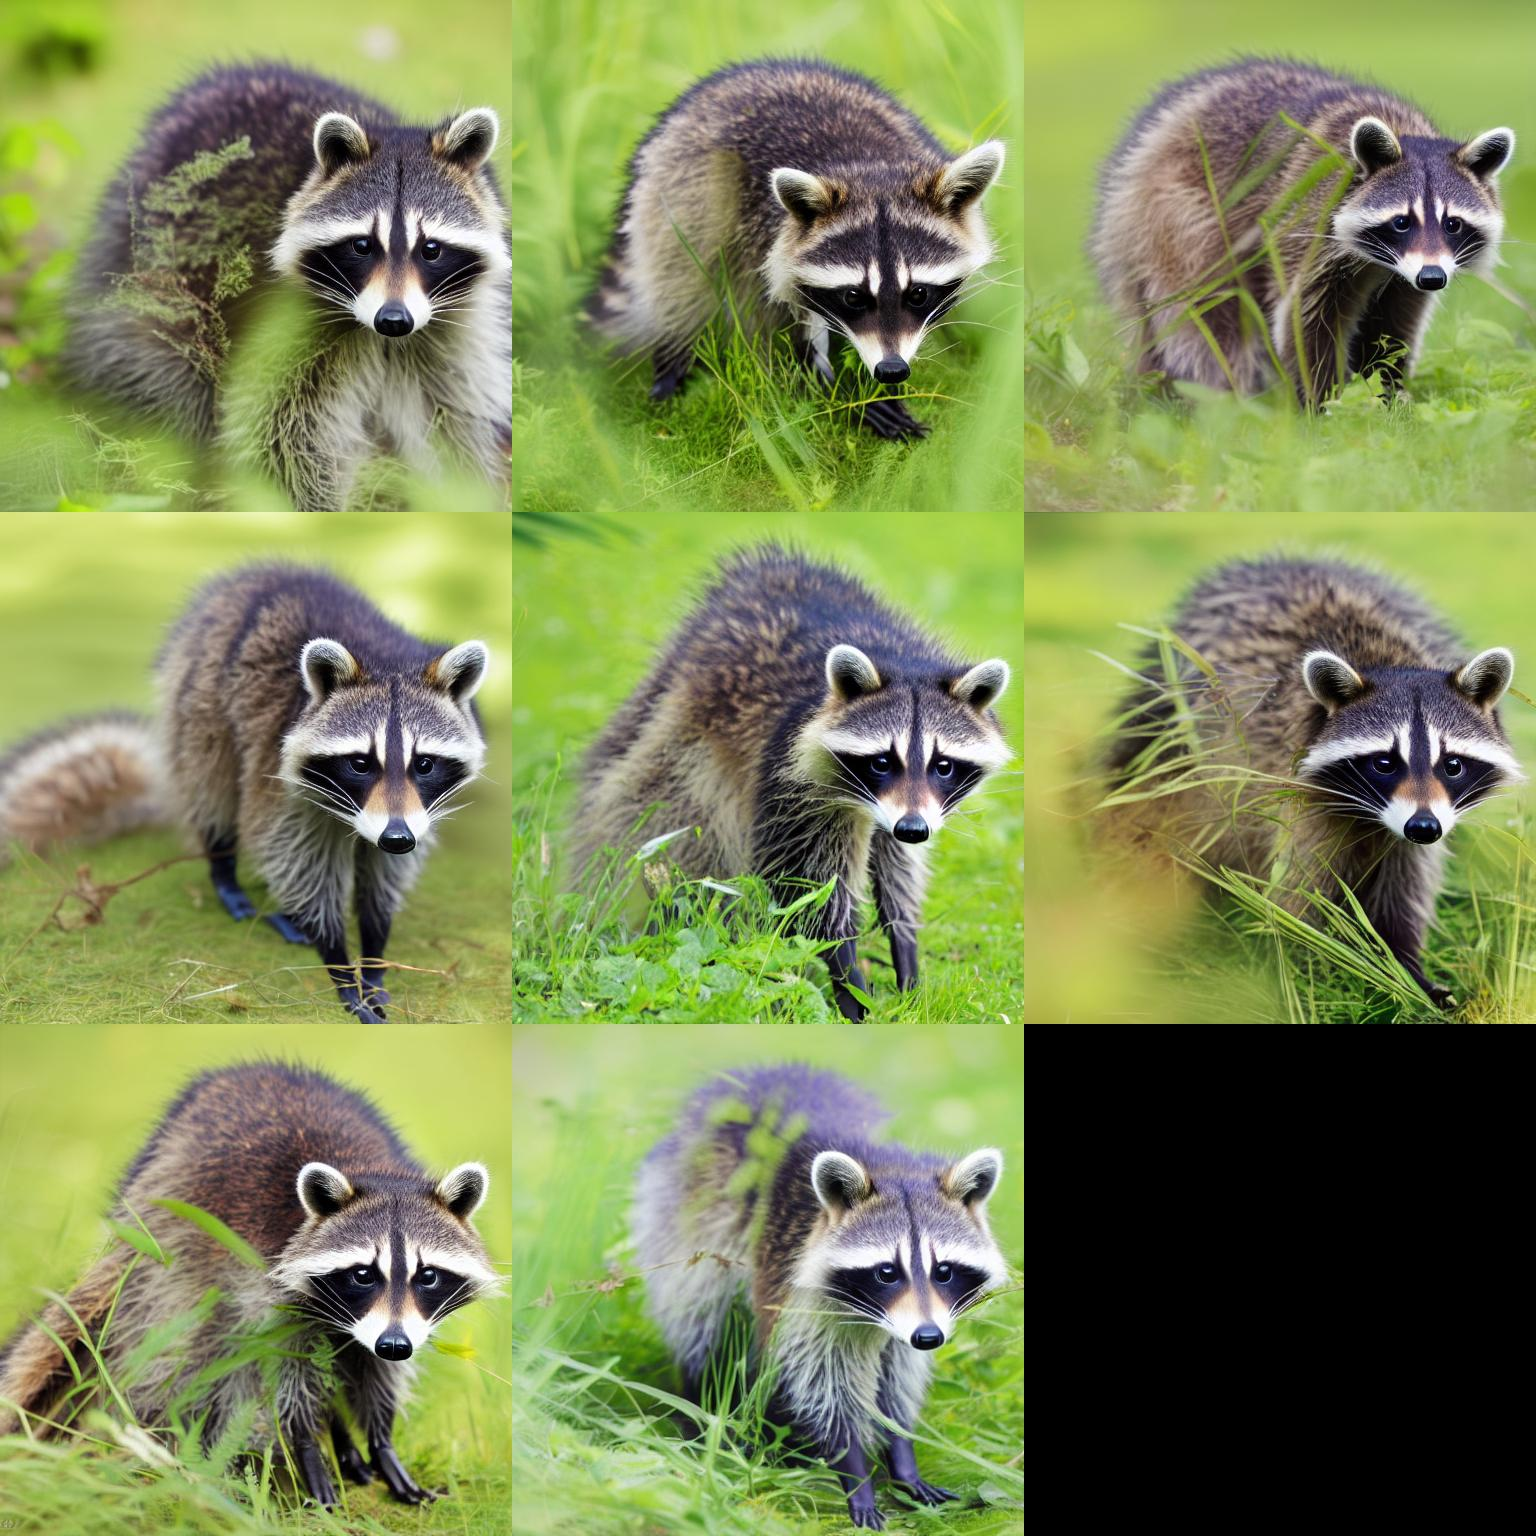raccoon: (60, 48, 505, 489), (0, 550, 502, 938), (38, 1055, 502, 1460), (565, 537, 1010, 938), (1072, 52, 1525, 437), (582, 52, 1013, 454), (592, 1049, 1017, 1454), (1084, 547, 1522, 940)
